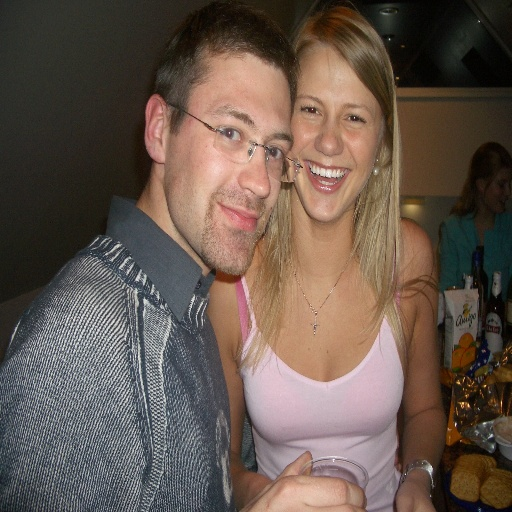hand: (236, 448, 368, 511), (389, 374, 449, 506), (243, 472, 271, 505)
